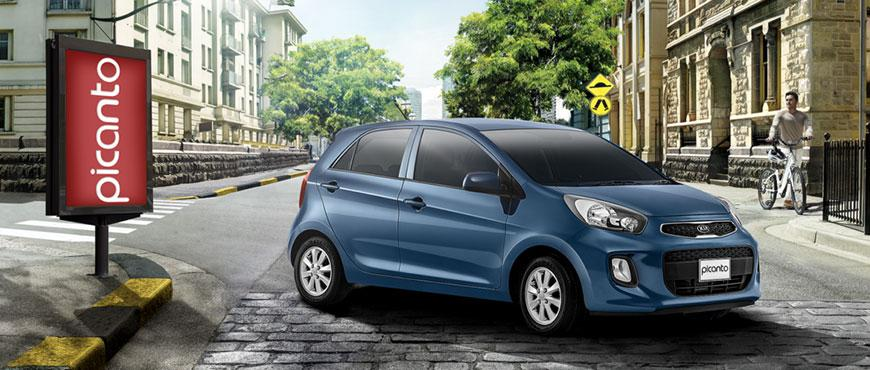Hatchback: (273, 90, 797, 347)
